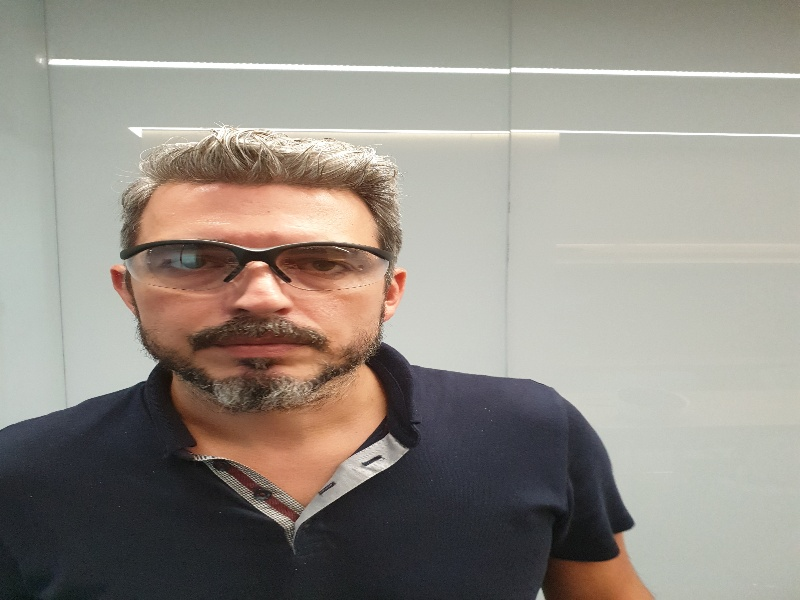Gozluk: (124, 241, 391, 299)
